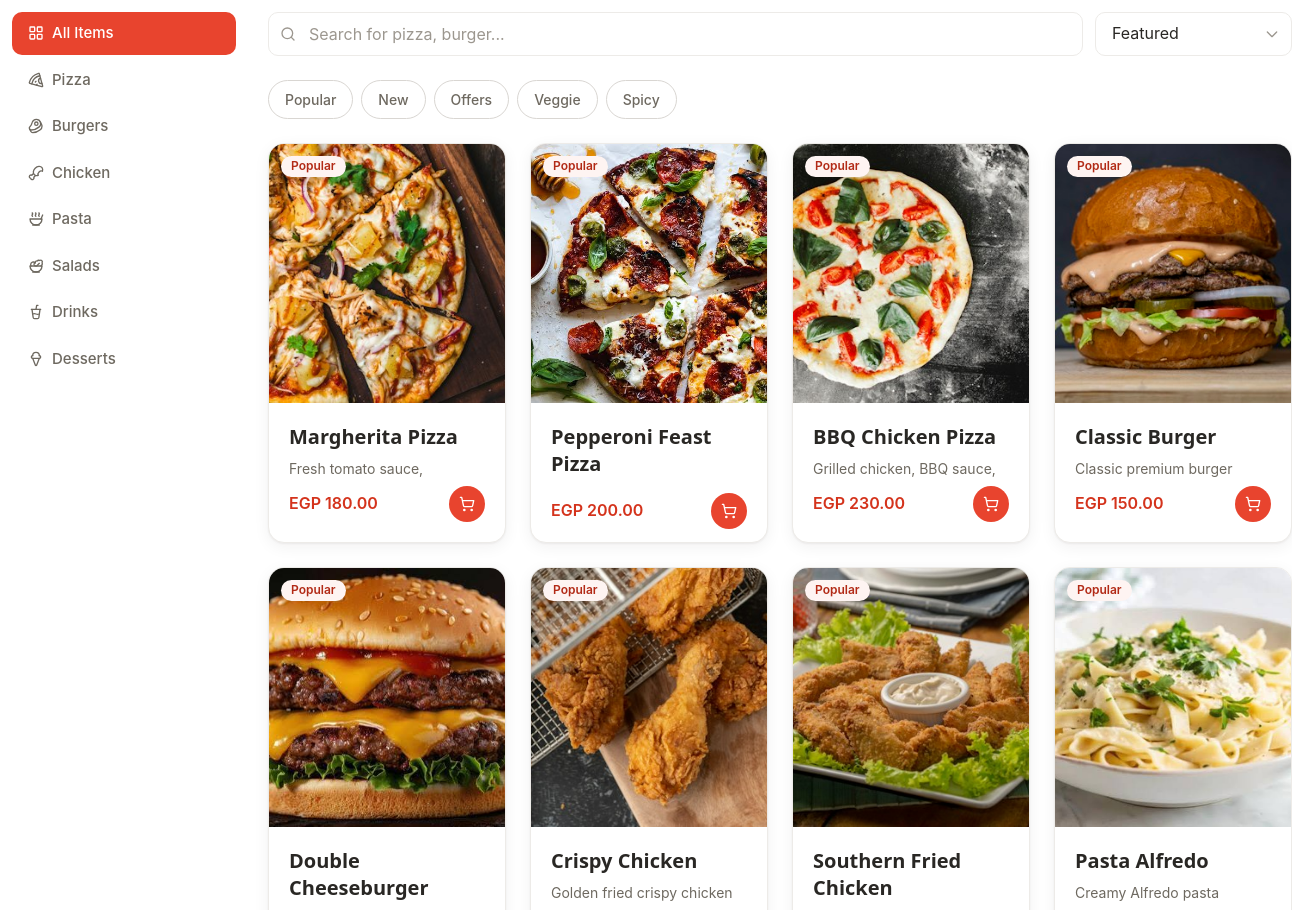
MenuClient › filters products by search
In the search field with placeholder "Search for pizza, burger...": {"x": 676, "y": 34} [268, 12, 1083, 56], type "margherita"
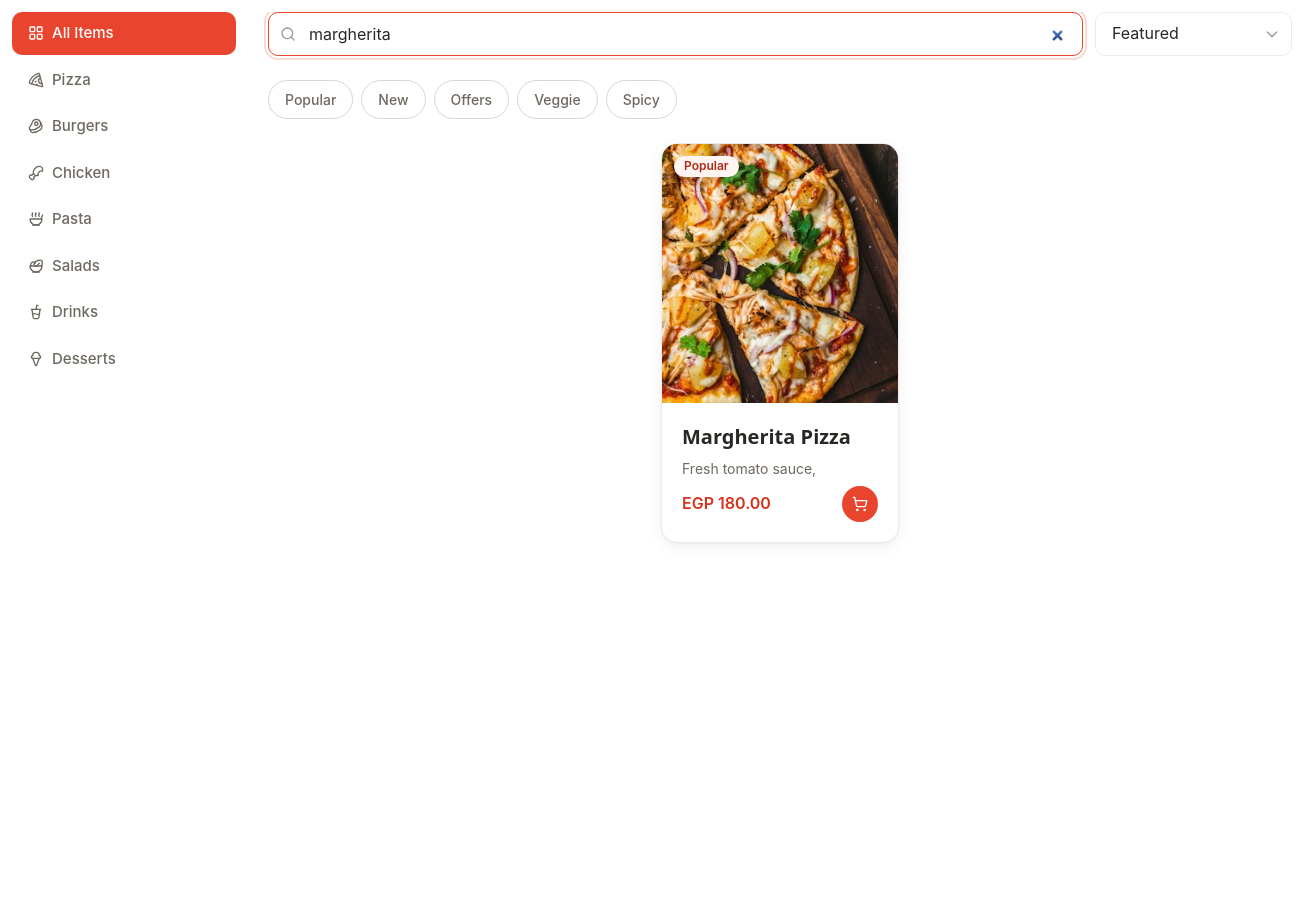
Expected: the heading "Margherita Pizza" is shown, [682, 423, 878, 450]
Expected: the link "Classic Burger" is gone
